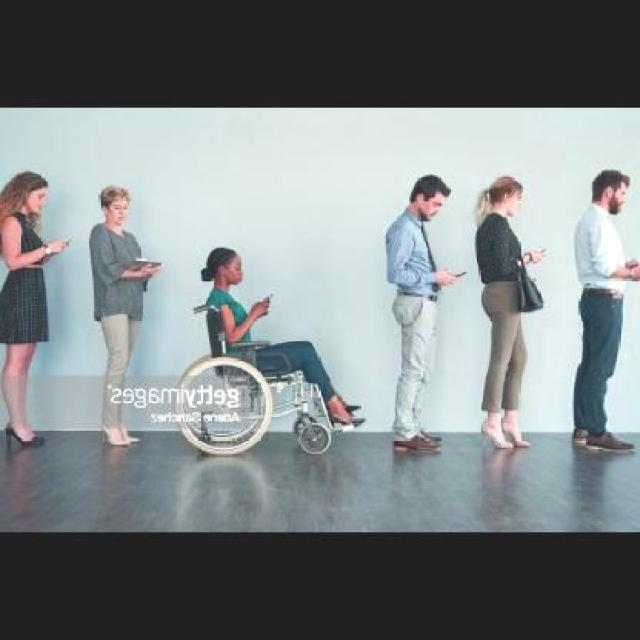wheelchairs: (173, 307, 344, 456)
